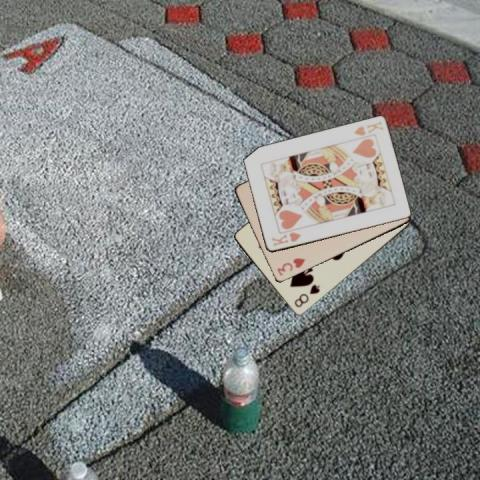3h: (274, 255, 307, 278)
8s: (292, 282, 322, 310)
Kh: (269, 229, 302, 248), (350, 119, 384, 137)
